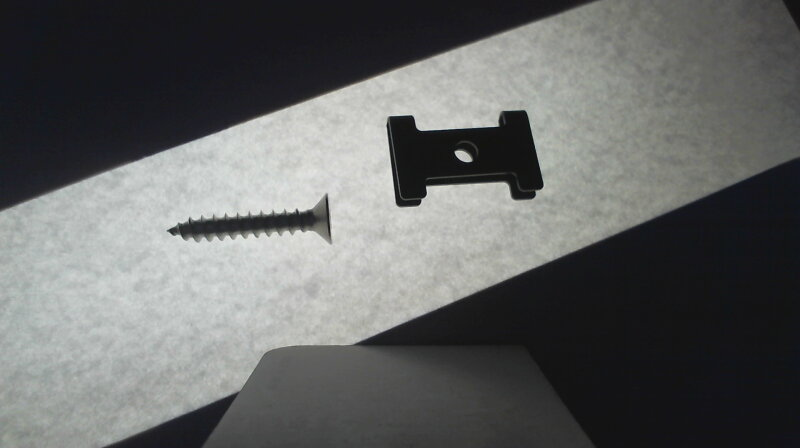O002: (379, 111, 546, 207)
S001: (165, 191, 335, 244)
